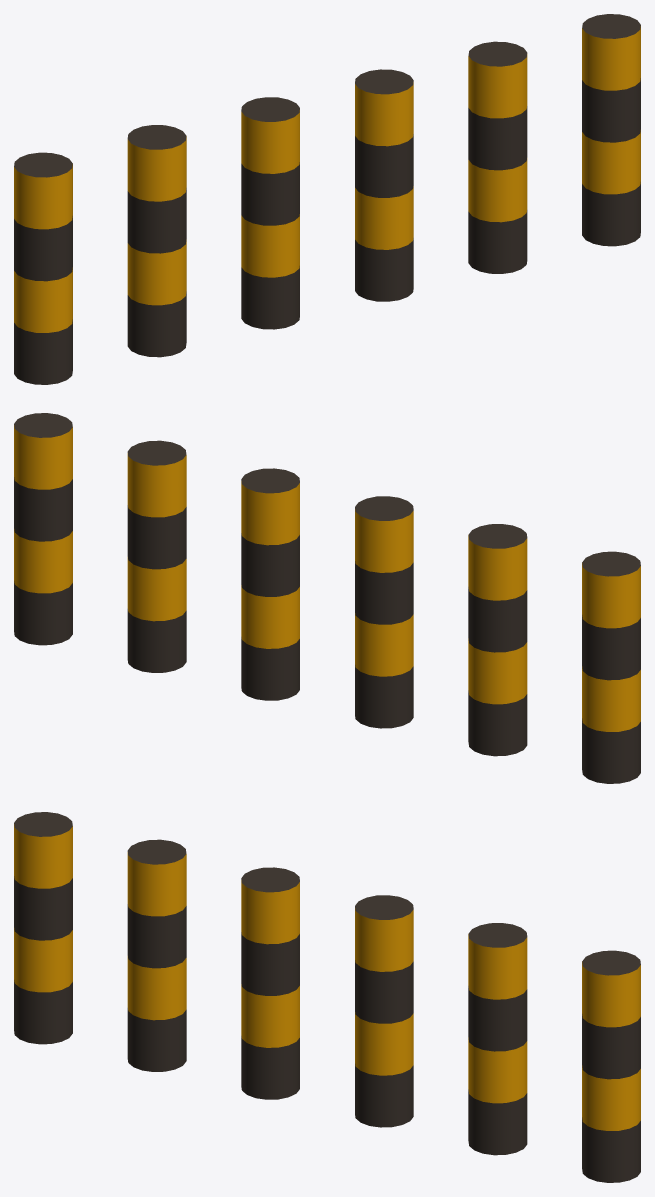
Rendered from fangchongkaluzhangani.gltf.
3 views of the same model, one above another, from view 1: azimuth 30°, elevation 25°; view 2: azimuth 150°, elevation 25°; view 3: azimuth 330°, elevation 25° (orthographic).
Parts seen in each view (by area): view 1: fangchongkaluzhang; view 2: fangchongkaluzhang; view 3: fangchongkaluzhang.
Boxes of the visible parts, x1=… form: fangchongkaluzhang: x1=14, y1=14, x2=640, y2=384; fangchongkaluzhang: x1=14, y1=413, x2=640, y2=783; fangchongkaluzhang: x1=14, y1=812, x2=640, y2=1182.
Size of the model in its own units: 3.23 by 1.03 by 0.2689.
